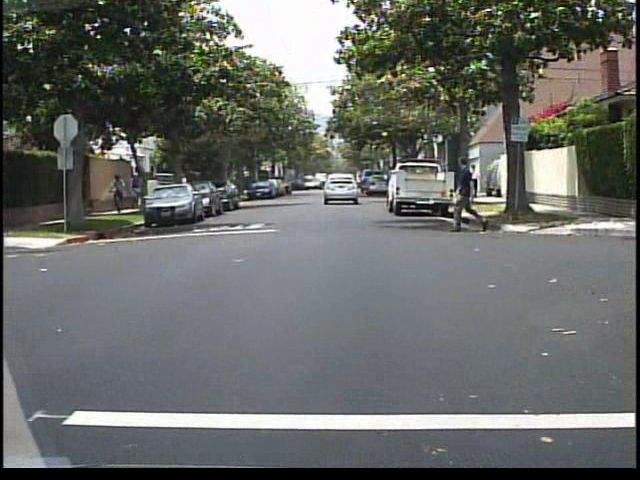person: (446, 153, 491, 235), (107, 170, 130, 210), (126, 168, 149, 204), (466, 162, 485, 201), (175, 170, 192, 208)
